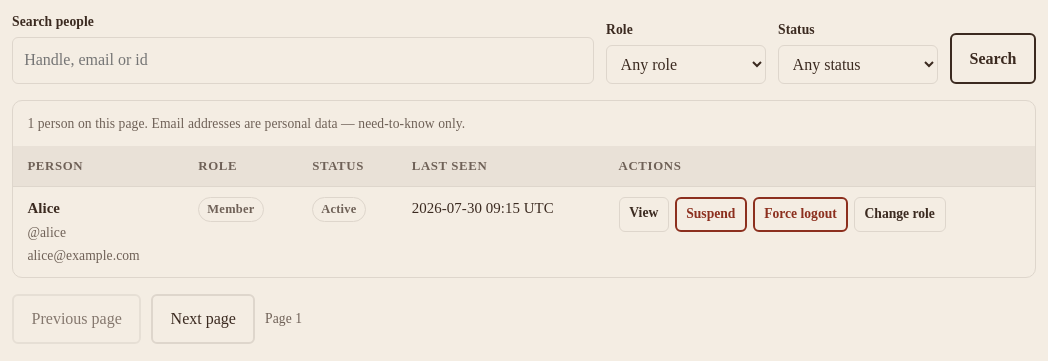
Test: people table › sends the filters the operator picked, and resets to the first page
Check: the link named "view alice" is shown, box [619,196,669,232]
Step 1. Click the button "Next page" → (203, 319), box [151,294,256,344]
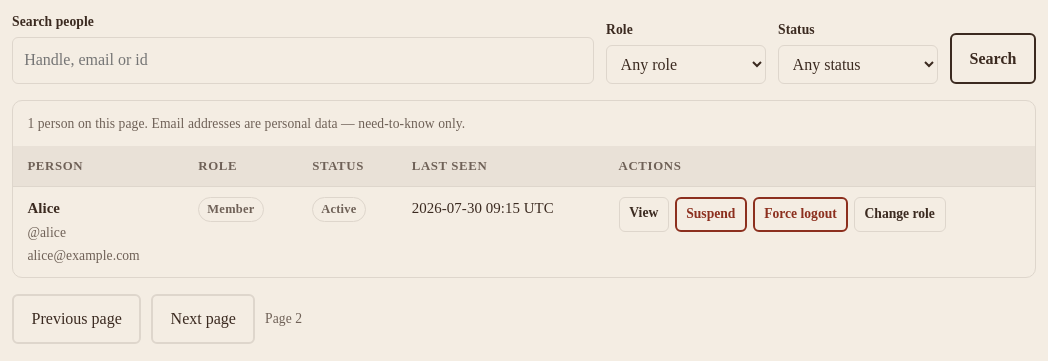
Check: the text "Page 2" is shown, box [265,308,302,330]
Step 2. Select "Suspended" in the dropdown labelled "Status" → (858, 64), box [778,45,938,84]
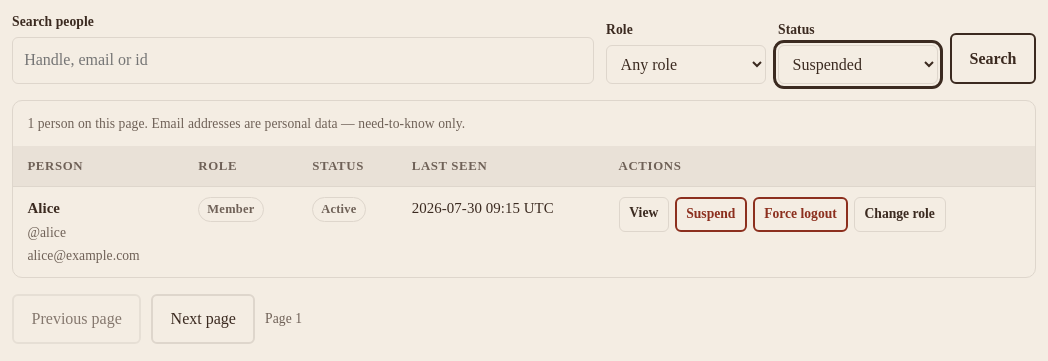
Check: the text "Page 1" is shown, box [265,308,302,330]
